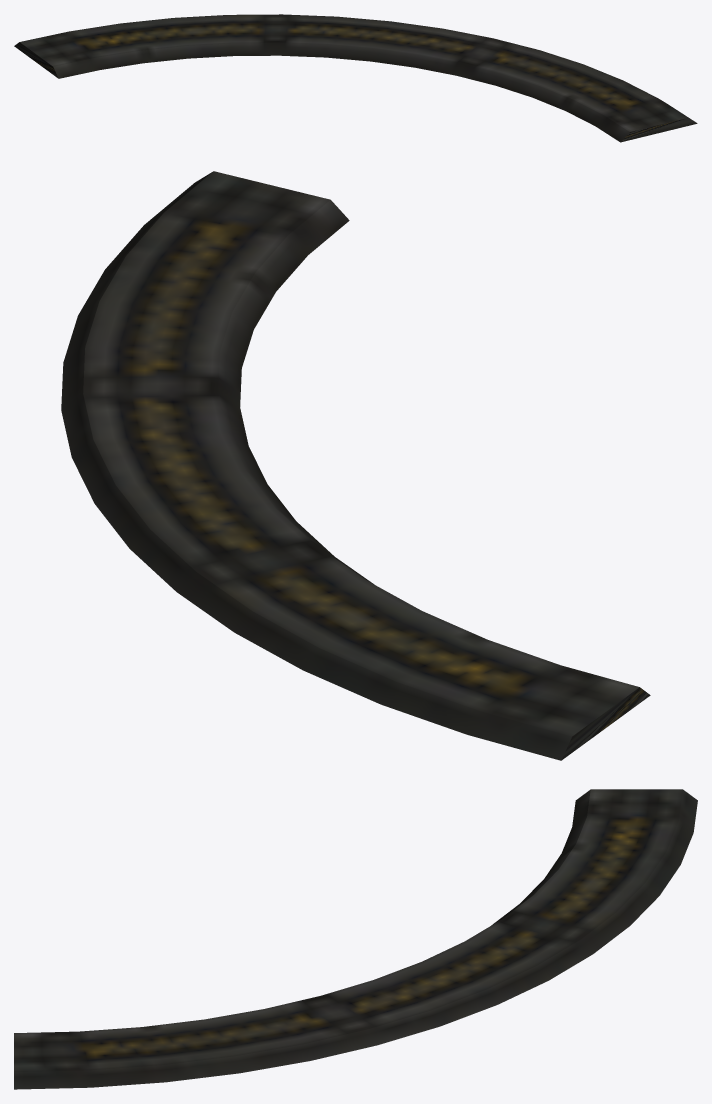
File: Panel_21_90deg.FBX
The picture shows the model from 3 angles, top to bottom: view 1: azimuth 30°, elevation 25°; view 2: azimuth 150°, elevation 25°; view 3: azimuth 270°, elevation 25°; orthographic projection. The views are drawn at different scales.
Visible parts, largest first — view 1: Panel_21_90deg; view 2: Panel_21_90deg; view 3: Panel_21_90deg.
Boxes of the visible parts, x1,y1,x2,y2 form: Panel_21_90deg: (14,14,697,142); Panel_21_90deg: (61,171,650,760); Panel_21_90deg: (14,789,697,1089).
Size of the model in its own units: 280 by 5 by 280.
